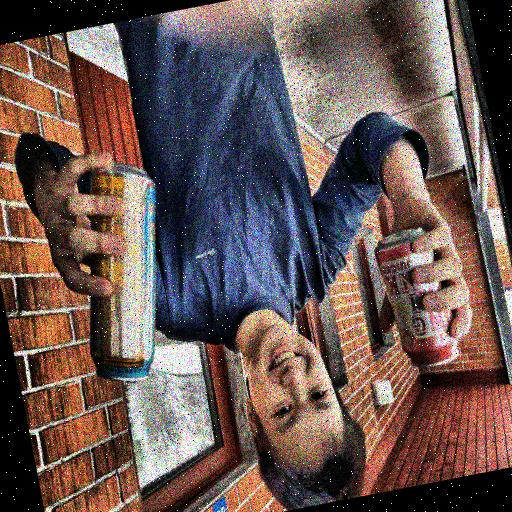koff: (367, 223, 466, 388)
